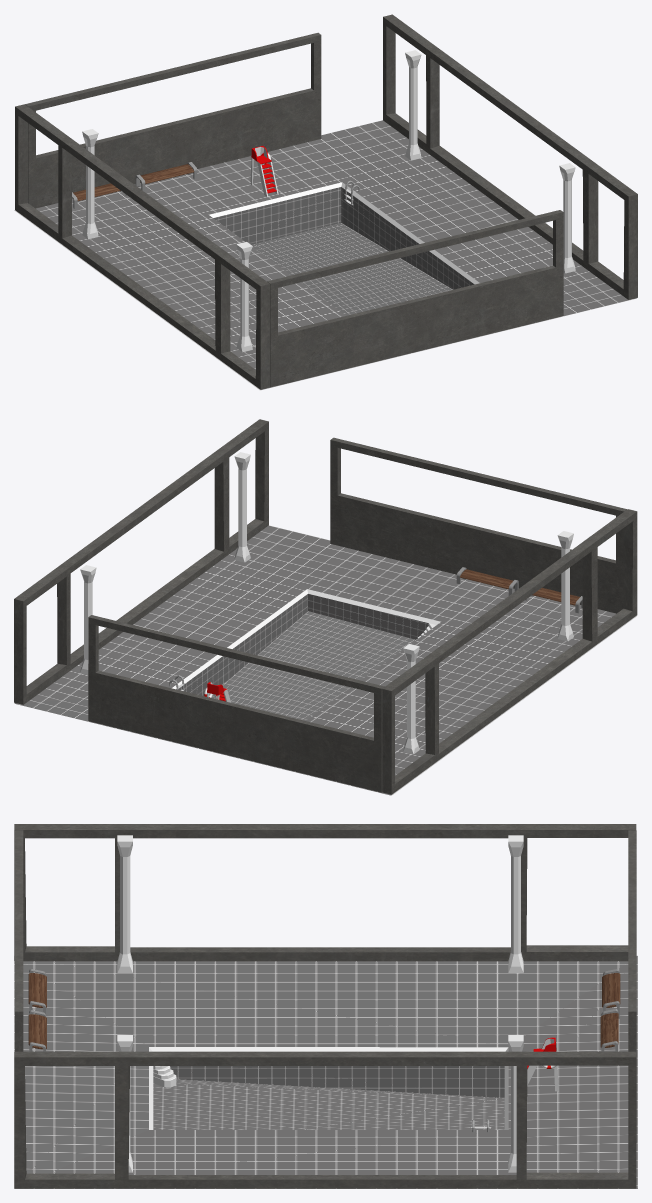
File: Pool.fbx
3 views of the same model, one above another, from view 1: azimuth 30°, elevation 25°; view 2: azimuth 150°, elevation 25°; view 3: azimuth 270°, elevation 25° (orthographic). The views are drawn at different scales.
Visible parts, largest first — view 1: Pool, east wall, west wall, north wall, south wall, pillars, Lifeguard Tower, Benh_legs.001_Cube.000; view 2: Pool, west wall, east wall, north wall, south wall, pillars, Benh_legs_Cube.002; view 3: Pool, south wall, north wall, pillars, west wall, east wall, Benh_legs.001_Cube.000, Benh_legs.001_Cube.002, Benh_legs_Cube.003, Benh_legs_Cube.002.
Boxes of the visible parts, bbox=[...] form: Pool: bbox=[14, 120, 636, 390]; east wall: bbox=[267, 210, 563, 387]; west wall: bbox=[25, 32, 321, 208]; north wall: bbox=[15, 104, 269, 389]; south wall: bbox=[383, 14, 637, 299]; pillars: bbox=[82, 50, 575, 352]; Lifeguard Tower: bbox=[250, 146, 278, 197]; Benh_legs.001_Cube.000: bbox=[135, 162, 197, 191]; Pool: bbox=[14, 525, 637, 795]; west wall: bbox=[88, 615, 384, 792]; east wall: bbox=[330, 437, 626, 613]; north wall: bbox=[382, 509, 637, 794]; south wall: bbox=[14, 419, 268, 704]; pillars: bbox=[80, 452, 573, 754]; Benh_legs_Cube.002: bbox=[456, 567, 518, 595]; Pool: bbox=[14, 955, 637, 1188]; south wall: bbox=[14, 1051, 636, 1188]; north wall: bbox=[14, 824, 636, 961]; pillars: bbox=[117, 835, 523, 1172]; west wall: bbox=[628, 830, 636, 1142]; east wall: bbox=[15, 830, 23, 1051]; Benh_legs.001_Cube.000: bbox=[600, 1009, 618, 1051]; Benh_legs.001_Cube.002: bbox=[602, 969, 620, 1018]; Benh_legs_Cube.003: bbox=[28, 969, 46, 1013]; Benh_legs_Cube.002: bbox=[28, 1010, 46, 1051].
Size of the model in its own units: 7199 by 2681 by 8125.
